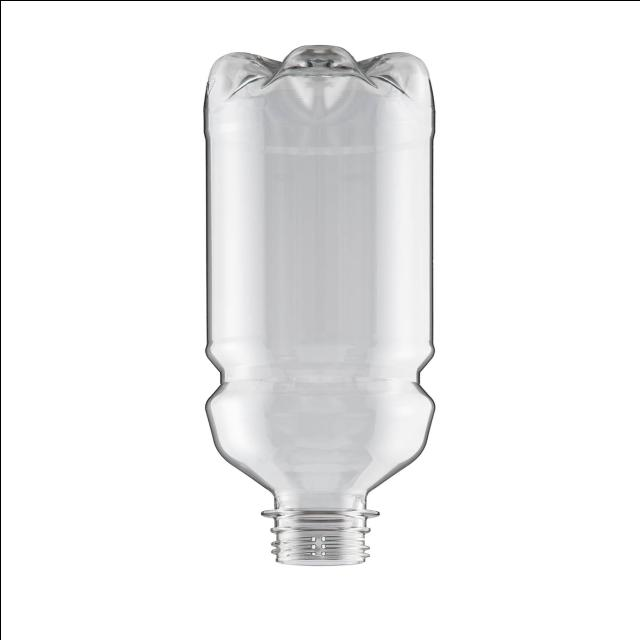bottom: (191, 40, 450, 126)
no_cap: (253, 489, 416, 572)
